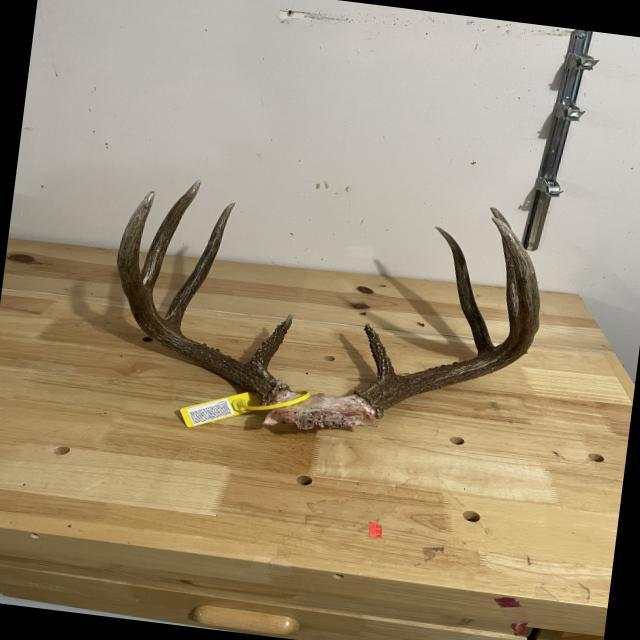L-F: (364, 216, 540, 413)
L-G1: (363, 321, 397, 381)
L-G2: (434, 225, 493, 351)
R-F: (116, 190, 285, 400)
R-G1: (247, 313, 292, 374)
R-G2: (164, 202, 235, 331)
R-G3: (140, 179, 201, 291)
